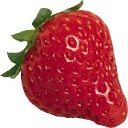strawberry: (16, 6, 128, 126)
